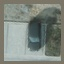car: (27, 21, 42, 51)
